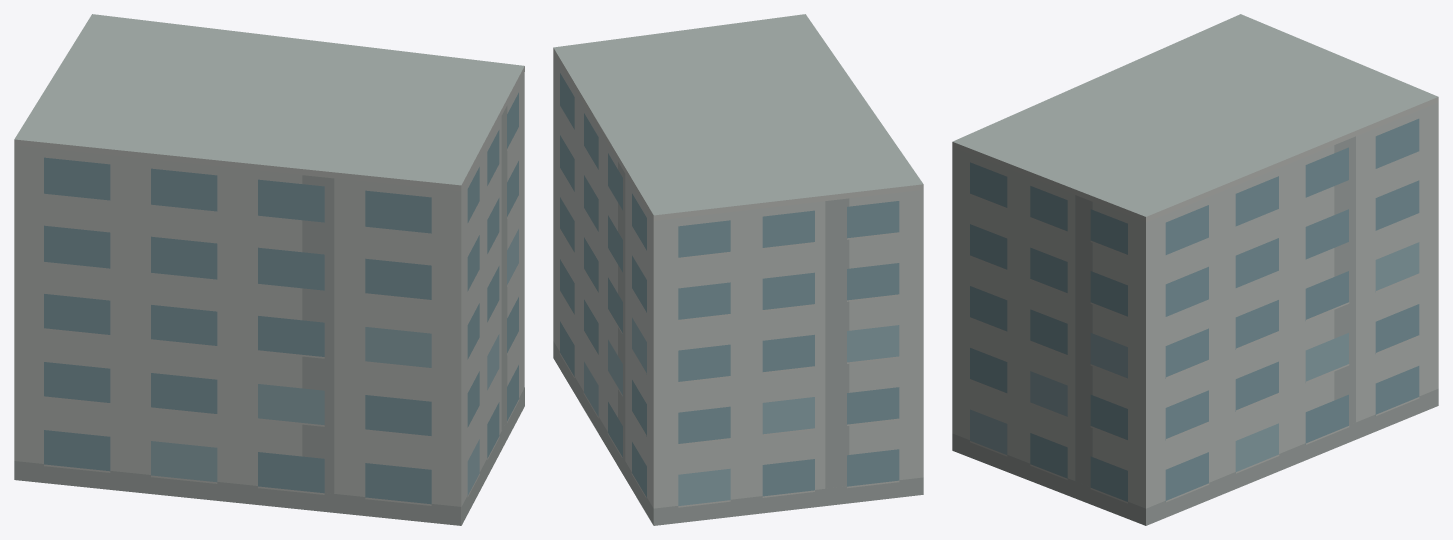
File: survey-upis-32770310.glb
3 renders of one model, left to right at view 1: azimuth 30°, elevation 25°; view 2: azimuth 150°, elevation 25°; view 3: azimuth 270°, elevation 25°, orthographic. The views are drawn at different scales.
Parts seen in each view (by area): view 1: survey-upis-32770310.tmp; view 2: survey-upis-32770310.tmp; view 3: survey-upis-32770310.tmp.
Boxes of the visible parts, <box> form: survey-upis-32770310.tmp: <box>14,14,524,525</box>; survey-upis-32770310.tmp: <box>553,14,923,525</box>; survey-upis-32770310.tmp: <box>952,14,1438,525</box>.
Bounding box in the file's own units: 19.17 × 13.6 × 19.41.
